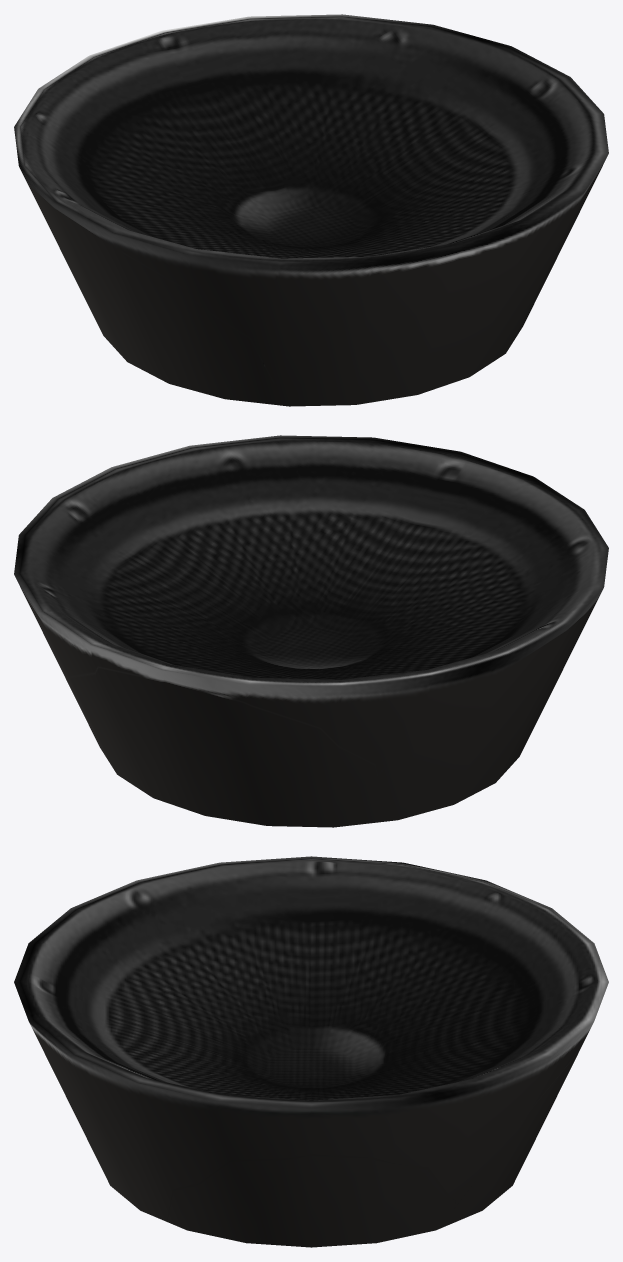
The model's file is speaker.fbx.
The picture shows the model from 3 angles, top to bottom: view 1: azimuth 30°, elevation 25°; view 2: azimuth 150°, elevation 25°; view 3: azimuth 270°, elevation 25°; orthographic projection.
Visible parts, largest first — view 1: speaker; view 2: speaker; view 3: speaker.
Boxes of the visible parts, x1,y1,x2,y2 form: speaker: [14, 14, 608, 406]; speaker: [14, 435, 608, 827]; speaker: [14, 856, 608, 1247].
Size of the model in its own units: 51.92 by 17.02 by 51.92.
1 material, 1 textured.
